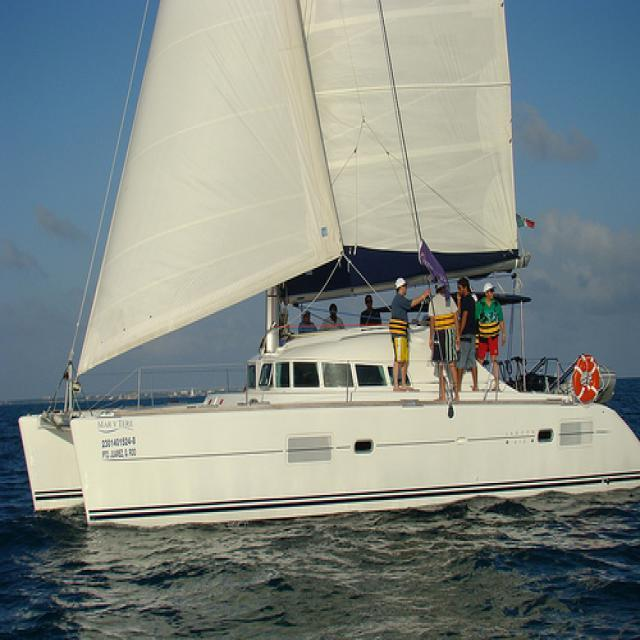Ship: (24, 6, 640, 521)
